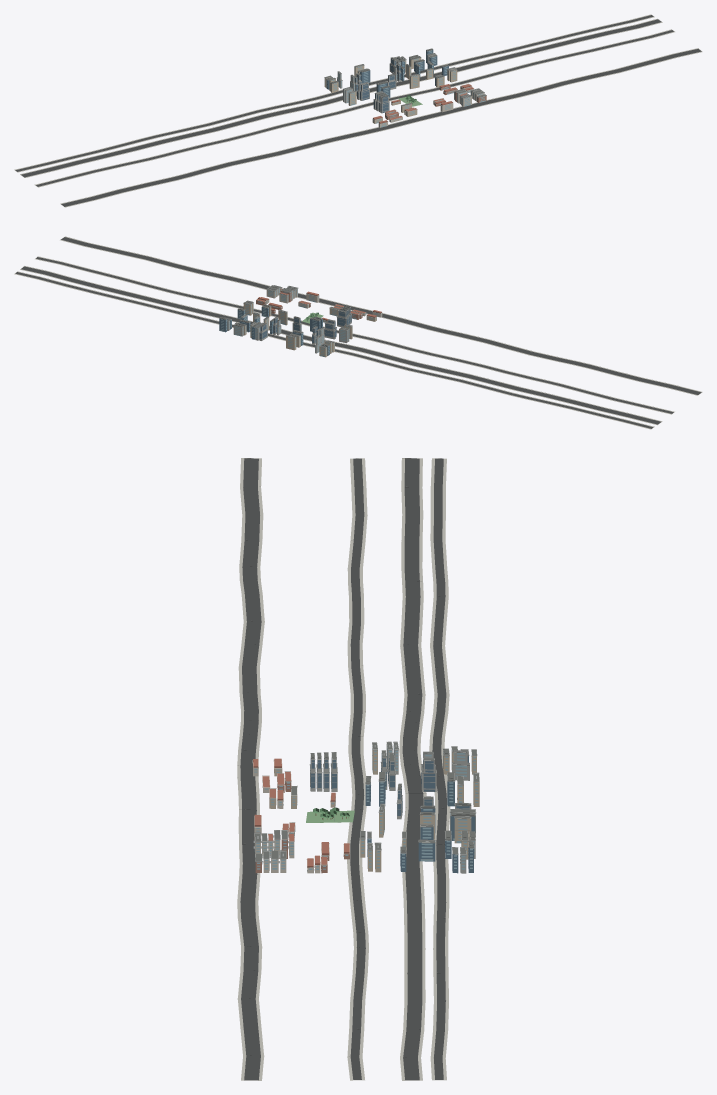
The picture shows the model from 3 angles, top to bottom: view 1: azimuth 30°, elevation 25°; view 2: azimuth 150°, elevation 25°; view 3: azimuth 270°, elevation 25°; orthographic projection. The views are drawn at different scales.
Visible parts, largest first — view 1: road-h-6-mesh-1, road-h-9-mesh-5, road-h-6-mesh-0, road-h-8-mesh-2, road-h-8-mesh-3, road-h-10-mesh-6, road-h-9-mesh-4, road-h-10-mesh-7; view 2: road-h-6-mesh-1, road-h-9-mesh-5, road-h-6-mesh-0, road-h-8-mesh-2, road-h-9-mesh-4, road-h-10-mesh-6, road-h-8-mesh-3, road-h-10-mesh-7; view 3: road-h-9-mesh-5, road-h-6-mesh-1, road-h-8-mesh-3, road-h-10-mesh-7, road-h-8-mesh-2, road-h-6-mesh-0, road-h-10-mesh-6, road-h-9-mesh-4.
Boxes of the visible parts, bbox=[...] form: road-h-6-mesh-1: bbox=[61, 48, 701, 206]; road-h-9-mesh-5: bbox=[21, 19, 661, 177]; road-h-6-mesh-0: bbox=[60, 48, 702, 207]; road-h-8-mesh-2: bbox=[34, 29, 674, 187]; road-h-8-mesh-3: bbox=[36, 30, 673, 186]; road-h-10-mesh-6: bbox=[14, 14, 654, 172]; road-h-9-mesh-4: bbox=[20, 18, 662, 177]; road-h-10-mesh-7: bbox=[15, 15, 653, 171]; road-h-6-mesh-1: bbox=[61, 237, 701, 394]; road-h-9-mesh-5: bbox=[21, 266, 660, 424]; road-h-6-mesh-0: bbox=[60, 236, 702, 395]; road-h-8-mesh-2: bbox=[35, 256, 674, 414]; road-h-9-mesh-4: bbox=[20, 266, 662, 425]; road-h-10-mesh-6: bbox=[14, 271, 654, 429]; road-h-8-mesh-3: bbox=[36, 257, 673, 413]; road-h-10-mesh-7: bbox=[15, 272, 653, 428]; road-h-9-mesh-5: bbox=[402, 458, 423, 1080]; road-h-6-mesh-1: bbox=[240, 458, 261, 1080]; road-h-8-mesh-3: bbox=[350, 458, 365, 1079]; road-h-10-mesh-7: bbox=[432, 458, 446, 1079]; road-h-8-mesh-2: bbox=[347, 458, 368, 1080]; road-h-6-mesh-0: bbox=[237, 458, 264, 1080]; road-h-10-mesh-6: bbox=[429, 458, 450, 1080]; road-h-9-mesh-4: bbox=[399, 458, 426, 1080].
Bounding box in the file's own units: 1606 × 39.13 × 264.
